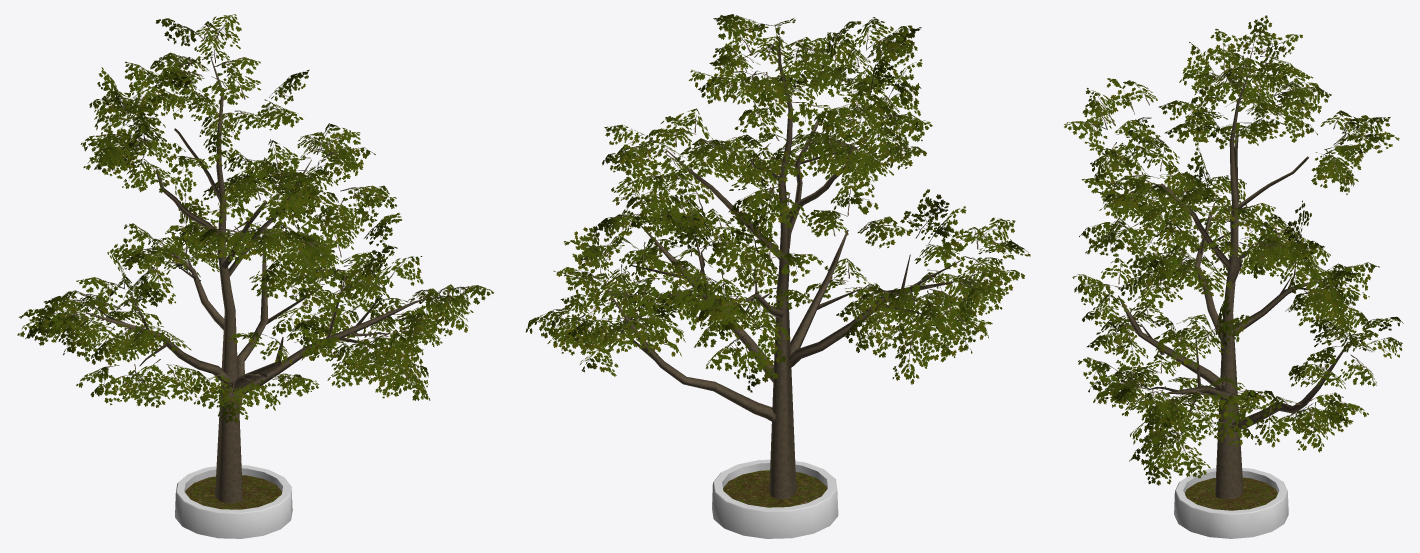
Rendered from nc_tree_05.fbx.
The picture shows the model from 3 angles, left to right: view 1: azimuth 30°, elevation 25°; view 2: azimuth 150°, elevation 25°; view 3: azimuth 270°, elevation 25°; orthographic projection. The views are drawn at different scales.
Parts seen in each view (by area): view 1: nc_tree_05_LOD0; view 2: nc_tree_05_LOD0; view 3: nc_tree_05_LOD0.
Boxes of the visible parts, x1=… form: nc_tree_05_LOD0: x1=17, y1=14, x2=493, y2=538; nc_tree_05_LOD0: x1=525, y1=14, x2=1030, y2=538; nc_tree_05_LOD0: x1=1064, y1=15, x2=1403, y2=538.
Size of what is drawn, in the model's own units: 4.07 by 4.46 by 2.99.
3 materials, 3 textured.
